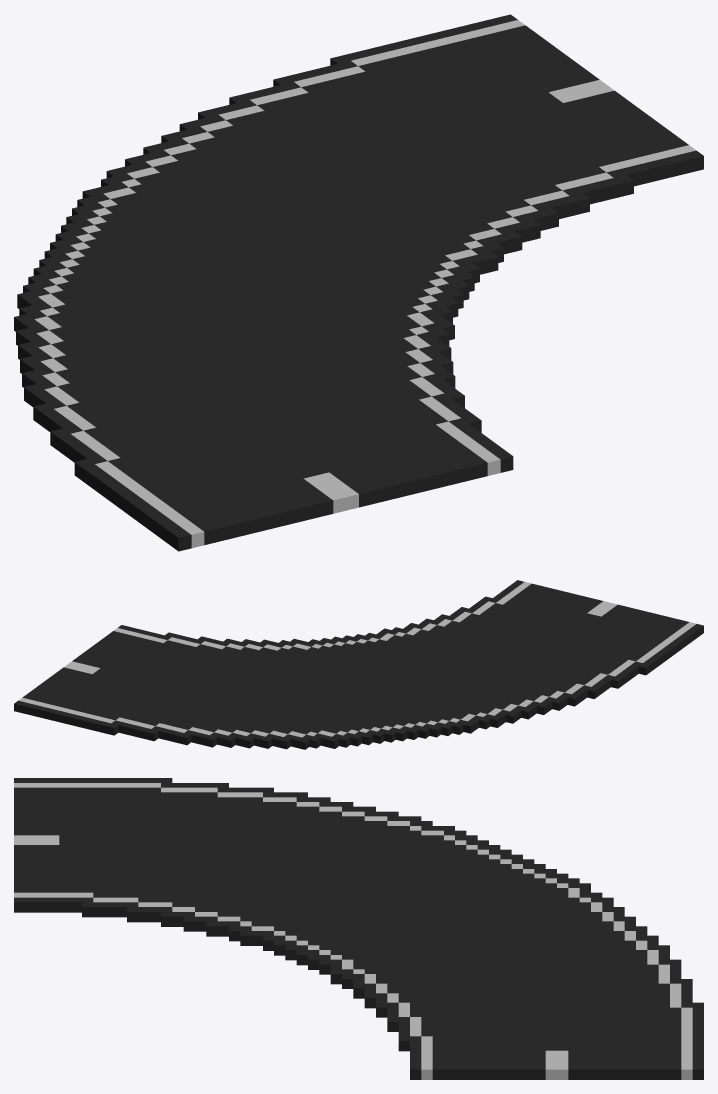
The model's file is road-rounded-curve-large-3.gltf.
The picture shows the model from 3 angles, top to bottom: view 1: azimuth 30°, elevation 25°; view 2: azimuth 150°, elevation 25°; view 3: azimuth 270°, elevation 25°; orthographic projection. The views are drawn at different scales.
Visible parts, largest first — view 1: road-rounded-curve-large-3_model; view 2: road-rounded-curve-large-3_model; view 3: road-rounded-curve-large-3_model.
Boxes of the visible parts, box(x1,y1,x2,y2) form: road-rounded-curve-large-3_model: box(14, 14, 703, 551); road-rounded-curve-large-3_model: box(14, 580, 703, 749); road-rounded-curve-large-3_model: box(14, 778, 703, 1079).
Bounding box in the file's own units: 6.1 × 0.1 × 6.1.
1 material, 1 textured.
